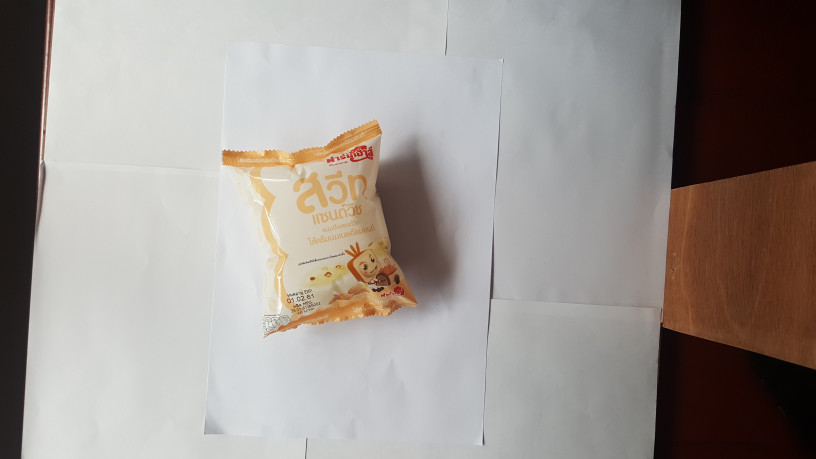farmhouse-sweetsandwich-almond: (222, 116, 421, 339)
